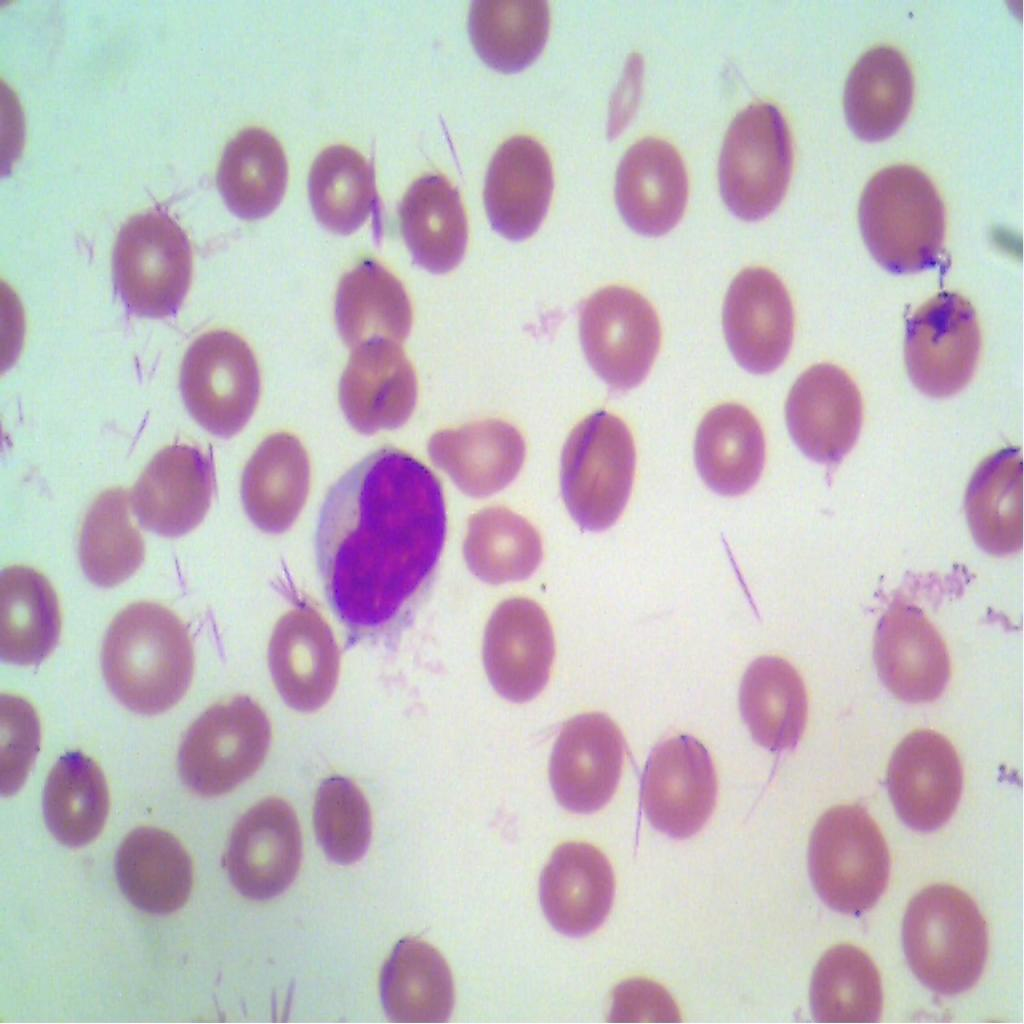Eritrosit: (896, 861, 994, 997), (88, 597, 195, 721), (575, 269, 669, 407), (775, 355, 879, 478), (555, 402, 642, 545), (104, 196, 198, 326), (804, 794, 898, 924), (854, 148, 946, 278), (542, 684, 628, 823), (218, 779, 304, 917), (178, 321, 268, 451), (301, 765, 396, 888), (179, 684, 273, 807), (950, 426, 1024, 581), (254, 592, 348, 714), (828, 32, 922, 154), (861, 595, 953, 714), (716, 95, 798, 228), (108, 812, 199, 928), (479, 130, 562, 255), (528, 838, 613, 955), (641, 724, 721, 847), (878, 722, 960, 841), (394, 162, 474, 282), (482, 595, 560, 717), (334, 329, 424, 432), (453, 0, 563, 84), (690, 394, 772, 506), (429, 407, 533, 494), (898, 295, 982, 402), (722, 266, 802, 378), (375, 917, 459, 1023), (211, 127, 294, 234), (235, 429, 318, 535), (336, 257, 418, 362), (803, 924, 888, 1023), (0, 564, 71, 682), (76, 485, 155, 589), (613, 131, 686, 242), (736, 639, 808, 751), (135, 438, 218, 532), (33, 746, 106, 851), (464, 497, 543, 594), (306, 136, 378, 234)
Limfosit: (304, 441, 448, 628)
